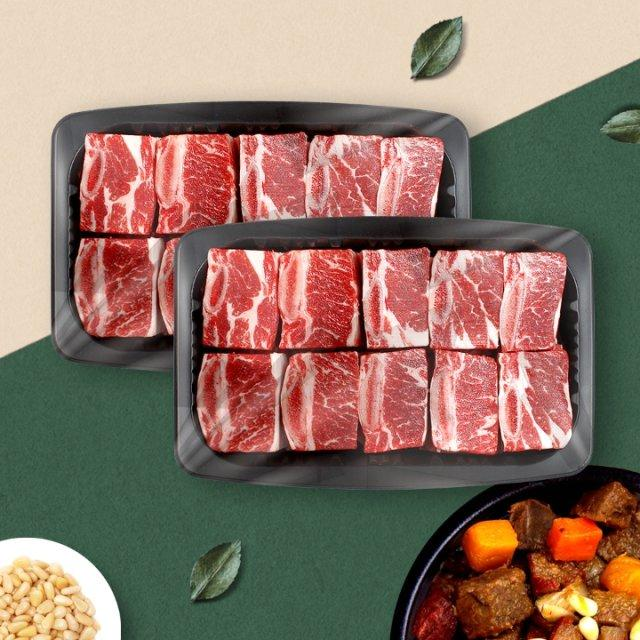beef: (374, 263, 564, 432), (220, 255, 355, 433), (102, 140, 374, 212)
